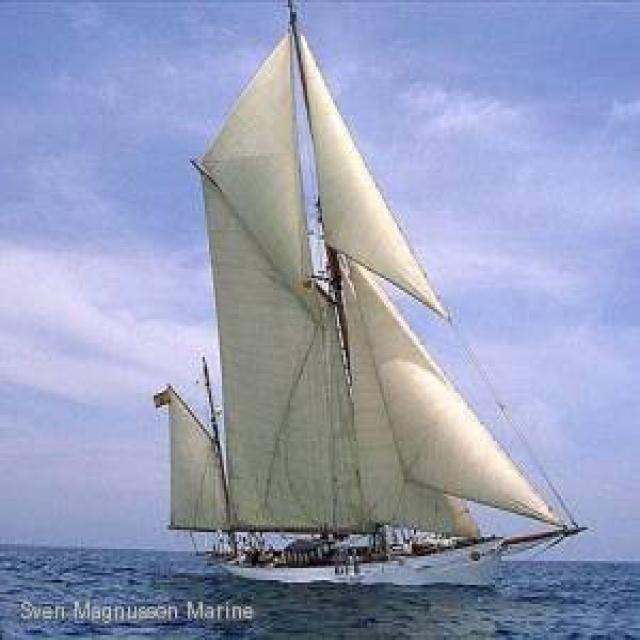Ship: (158, 30, 563, 596)
